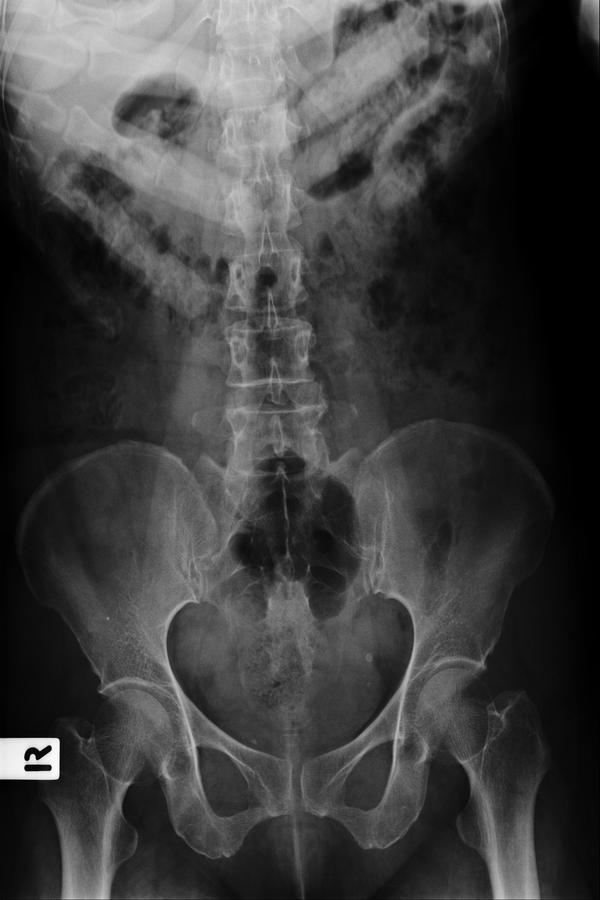lumbar scoliosis: (221, 142, 346, 521)
